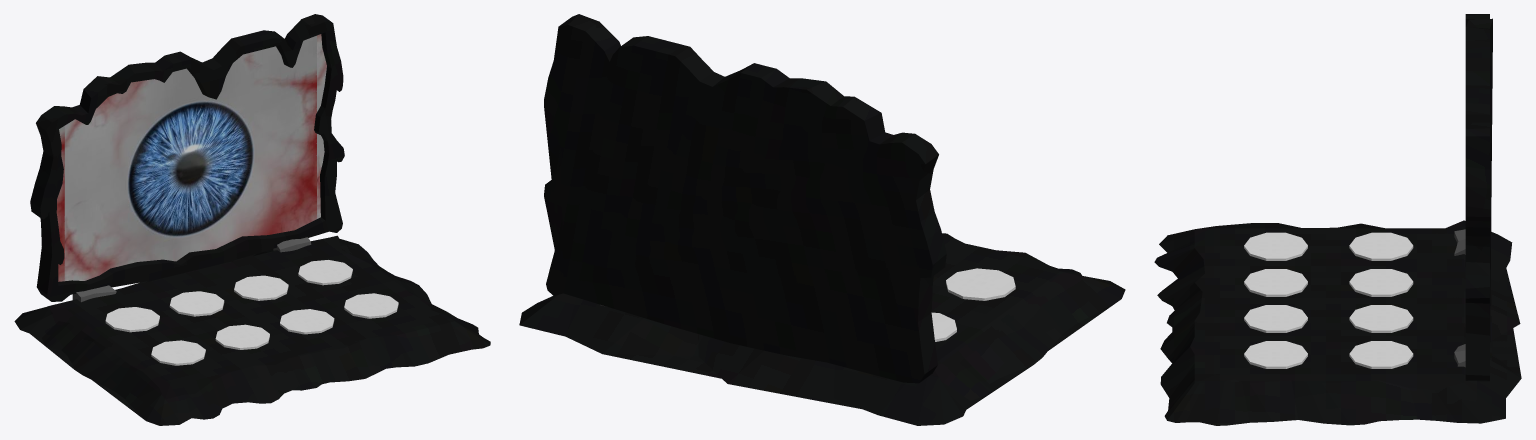
File: NOTEBOOK_DERRETIDO (1).fbx
3 views of the same model, side by side, from view 1: azimuth 30°, elevation 25°; view 2: azimuth 150°, elevation 25°; view 3: azimuth 270°, elevation 25° (orthographic). The views are drawn at different scales.
Parts seen in each view (by area): view 1: tela.001, notebook.002, tela, Cylinder, notebook.001; view 2: tela, notebook.002, Cylinder; view 3: notebook.002, Cylinder, tela, notebook.001.
Part boxes in pixels (bbox=[...]): tela.001: bbox=[56, 34, 326, 281]; notebook.002: bbox=[14, 235, 490, 425]; tela: bbox=[30, 14, 344, 301]; Cylinder: bbox=[105, 260, 398, 365]; notebook.001: bbox=[72, 237, 311, 302]; tela: bbox=[544, 14, 946, 383]; notebook.002: bbox=[519, 233, 1125, 425]; Cylinder: bbox=[931, 268, 1015, 341]; notebook.002: bbox=[1154, 220, 1521, 425]; Cylinder: bbox=[1244, 232, 1413, 368]; tela: bbox=[1465, 14, 1492, 381]; notebook.001: bbox=[1454, 229, 1465, 367].
Bounding box in the file's own units: 43.02 × 28.22 × 34.37.
